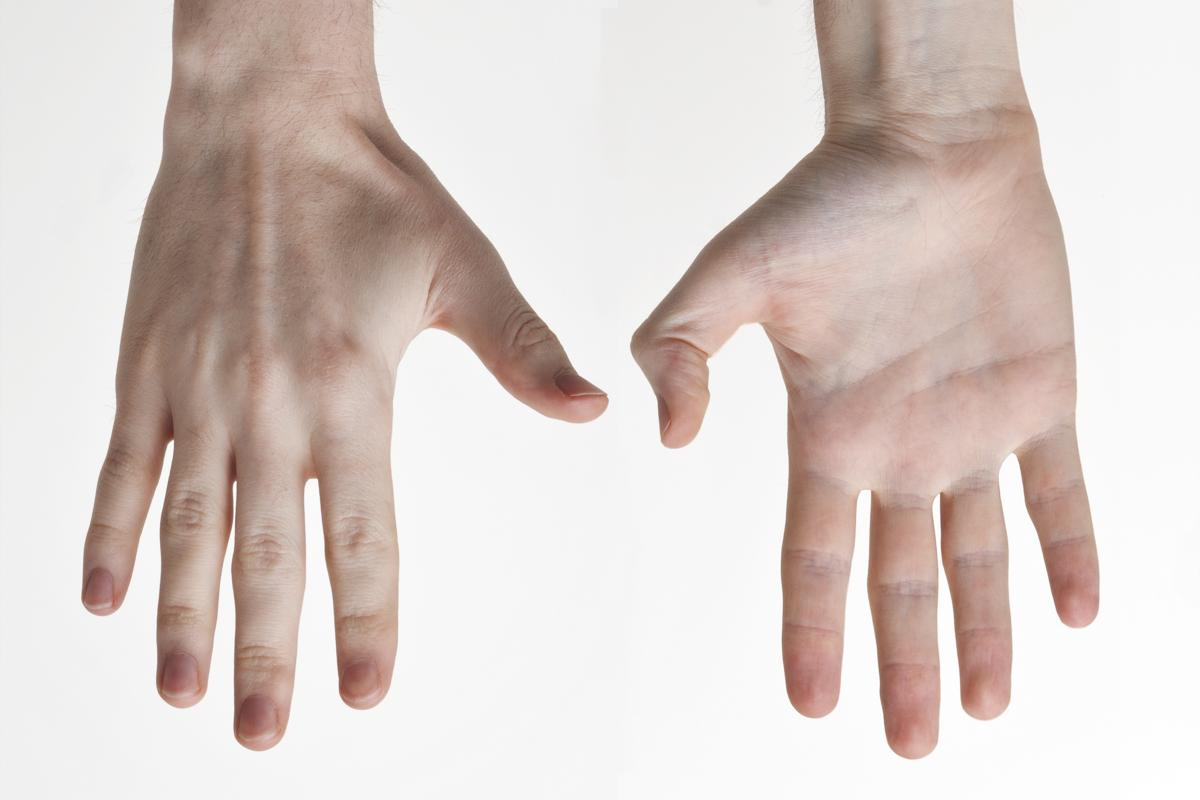finger: (315, 428, 406, 719), (224, 452, 307, 752), (1013, 425, 1136, 624), (155, 442, 232, 711), (779, 485, 863, 723), (869, 501, 942, 767), (79, 411, 169, 616), (947, 466, 1016, 731)
